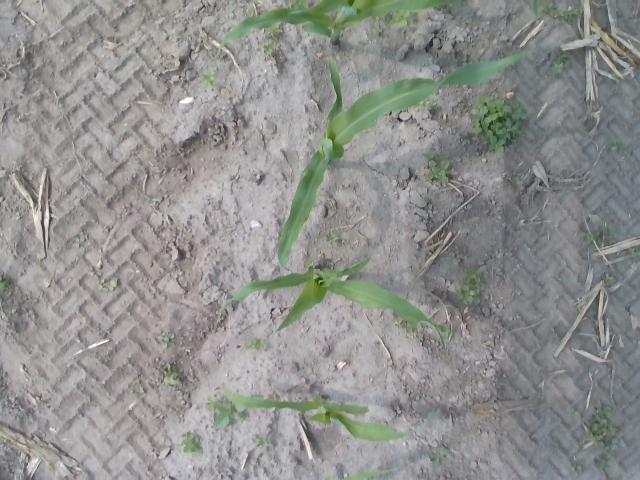Maize: (280, 46, 533, 270), (224, 257, 445, 348), (216, 0, 461, 58), (226, 390, 404, 442), (326, 465, 398, 480), (534, 0, 540, 20)
Weeds: (472, 96, 530, 153), (588, 404, 618, 449), (542, 3, 580, 22), (424, 154, 449, 182), (206, 398, 226, 430), (551, 50, 572, 72), (182, 431, 202, 453), (458, 286, 479, 306), (430, 450, 450, 466), (598, 226, 615, 244), (164, 365, 178, 385), (392, 11, 410, 26), (158, 333, 176, 348), (200, 71, 218, 85), (98, 279, 118, 291), (466, 272, 481, 287), (582, 230, 596, 246), (252, 432, 266, 448), (248, 338, 266, 349), (325, 231, 338, 245), (396, 324, 414, 334), (596, 457, 607, 468), (0, 276, 8, 291), (442, 322, 450, 336), (74, 237, 85, 247), (270, 26, 282, 35), (262, 44, 272, 54), (572, 464, 582, 474), (374, 24, 383, 34), (417, 198, 427, 207), (611, 140, 621, 149), (422, 100, 432, 108), (574, 410, 582, 420), (606, 274, 614, 282), (512, 178, 522, 184), (628, 247, 636, 254)
